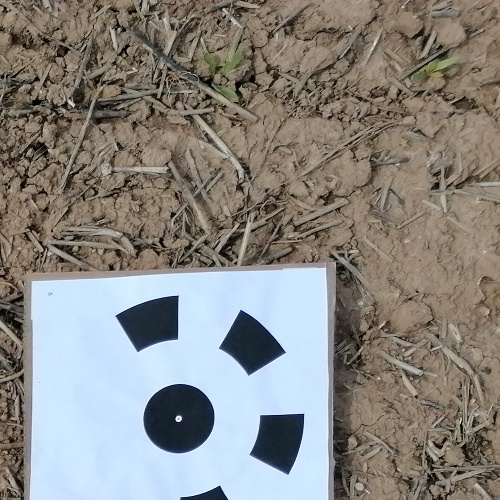beet: (205, 48, 243, 103), (422, 60, 458, 78)
